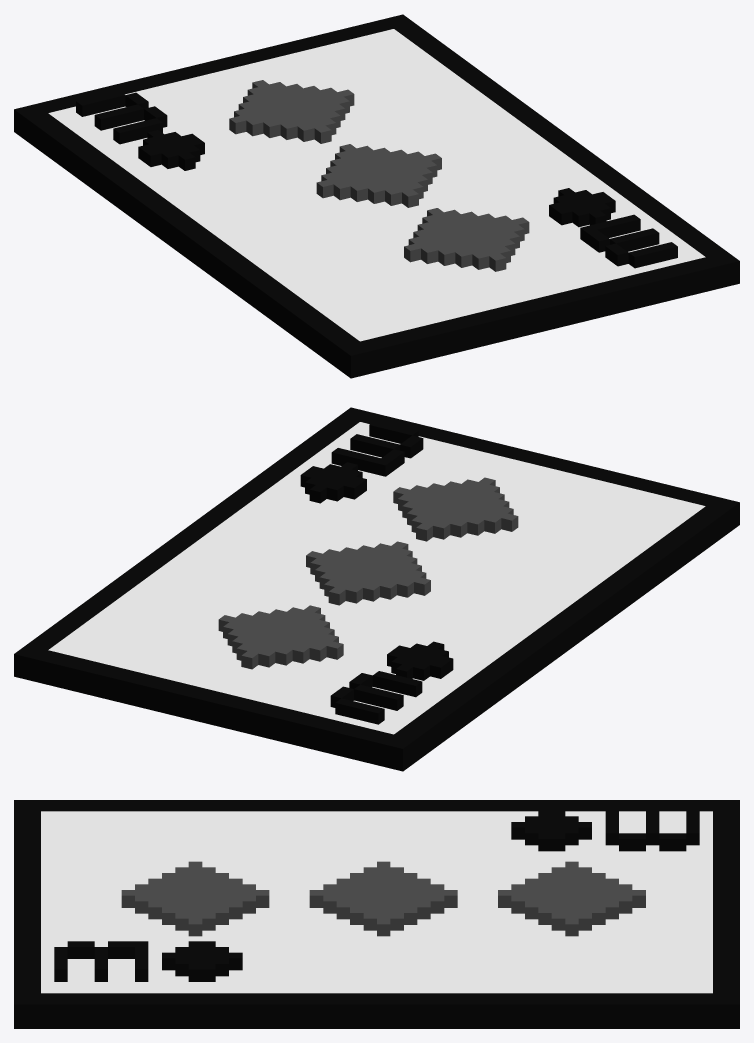
File: Dia3.obj
3 renders of one model, top to bottom at view 1: azimuth 30°, elevation 25°; view 2: azimuth 150°, elevation 25°; view 3: azimuth 270°, elevation 25°, orthographic. The views are drawn at different scales.
Size of the model in its own units: 36 by 3 by 54.
1 material, 1 textured.
